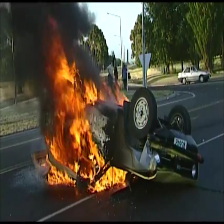fire_h: (38, 17, 104, 181), (88, 165, 127, 193), (99, 79, 129, 105), (47, 166, 76, 185)
fire_l: (41, 153, 52, 167)
